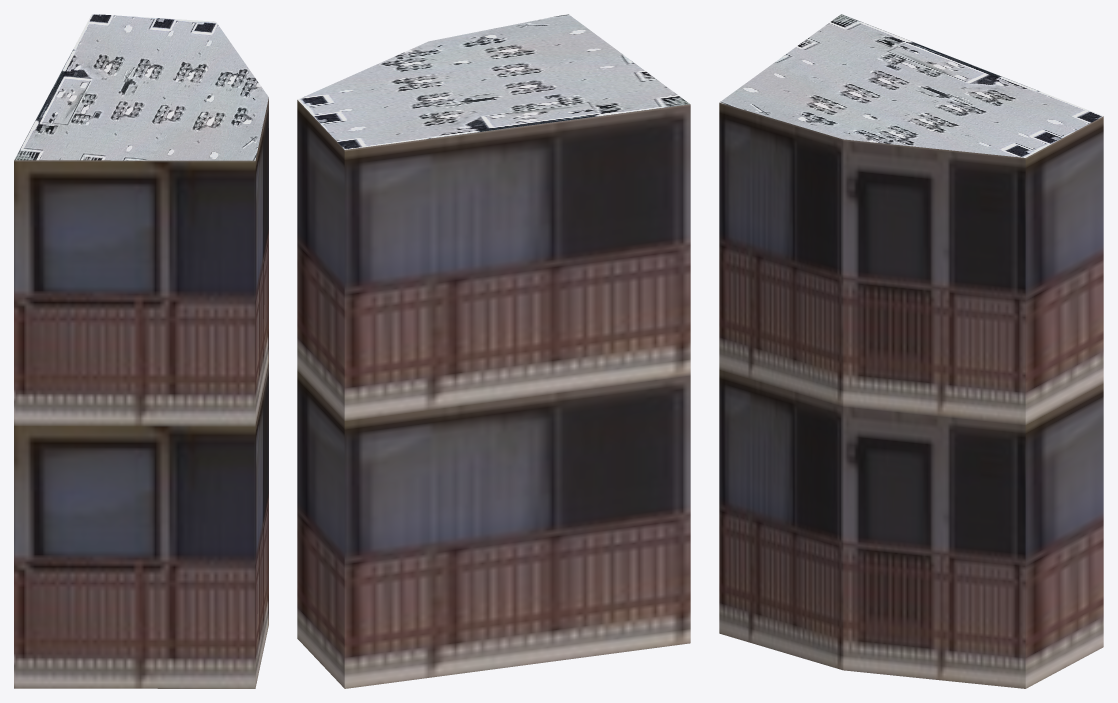
Rendered from ResTex__4403.fbx.
3 views of the same model, side by side, from view 1: azimuth 30°, elevation 25°; view 2: azimuth 150°, elevation 25°; view 3: azimuth 270°, elevation 25° (orthographic). The views are drawn at different scales.
Parts seen in each view (by area): view 1: CityEngineMaterial_6_m, CityEngineMaterial_m; view 2: CityEngineMaterial_6_m, CityEngineMaterial_m; view 3: CityEngineMaterial_6_m, CityEngineMaterial_m.
Part boxes in pixels (box(x1,y1,x2,y2)): CityEngineMaterial_6_m: box(14, 97, 268, 688); CityEngineMaterial_m: box(14, 14, 268, 160); CityEngineMaterial_6_m: box(297, 100, 690, 688); CityEngineMaterial_m: box(298, 14, 689, 149); CityEngineMaterial_6_m: box(719, 102, 1103, 688); CityEngineMaterial_m: box(719, 14, 1103, 157).
Bounding box in the file's own units: 3.49 × 6 × 3.94.
2 materials, 2 textured.
